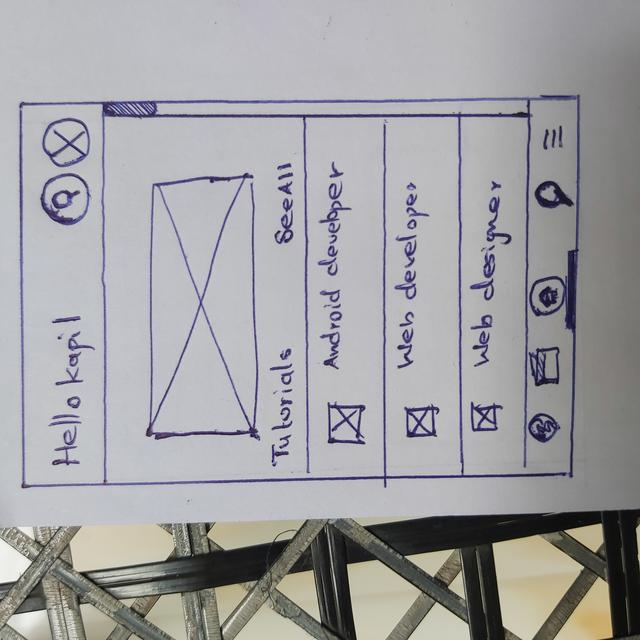ActionButton: (20, 179, 107, 233), (21, 117, 103, 173)
AppBar: (21, 105, 107, 487)
BottomNavBar: (526, 99, 576, 475)
BottomNavItems: (525, 266, 580, 337), (522, 406, 575, 467), (524, 344, 576, 394), (529, 113, 578, 166), (527, 175, 582, 222)
Icon: (40, 173, 88, 225), (43, 119, 90, 166), (529, 279, 563, 316), (530, 348, 563, 386), (535, 182, 574, 210), (529, 413, 558, 444), (541, 127, 563, 151)
Image: (149, 175, 256, 435), (330, 404, 361, 445), (406, 407, 436, 436), (471, 407, 496, 430)
Layout: (304, 115, 387, 473), (385, 115, 461, 473), (460, 118, 526, 473)
MainLayout: (16, 97, 580, 478)
ScrollBar: (104, 100, 528, 116)
ScrollView: (104, 119, 525, 475)
TextView: (51, 314, 85, 470), (475, 183, 503, 367), (326, 166, 344, 369), (269, 349, 297, 465), (401, 183, 415, 366), (276, 160, 293, 245)
